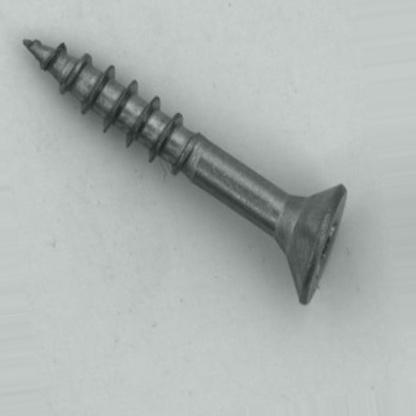metal: (22, 37, 347, 305)
